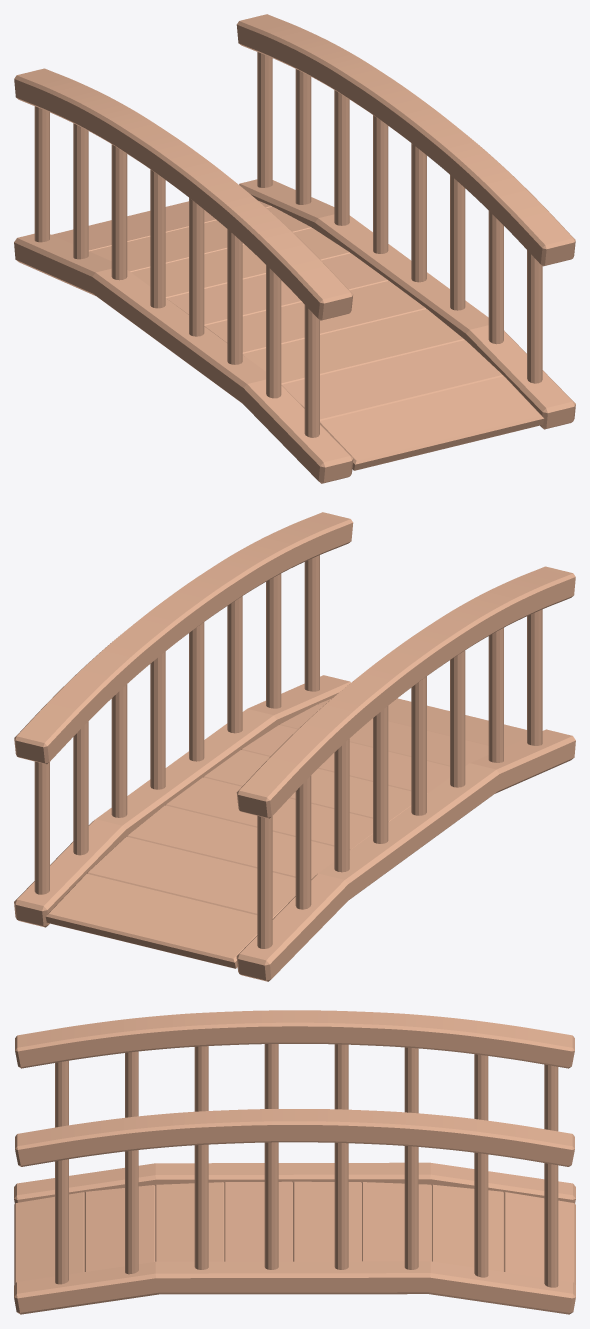
The model's file is bridge.glb.
3 views of the same model, one above another, from view 1: azimuth 30°, elevation 25°; view 2: azimuth 150°, elevation 25°; view 3: azimuth 270°, elevation 25° (orthographic). The views are drawn at different scales.
Visible parts, largest first — view 1: ベジエカーブ.002; view 2: ベジエカーブ.002; view 3: ベジエカーブ.002.
Part boxes in pixels (box(x1,y1,x2,y2)): ベジエカーブ.002: box(14, 14, 575, 483); ベジエカーブ.002: box(14, 512, 575, 981); ベジエカーブ.002: box(14, 1010, 575, 1314).
Size of the model in its own units: 1.15 by 0.9169 by 2.41.
